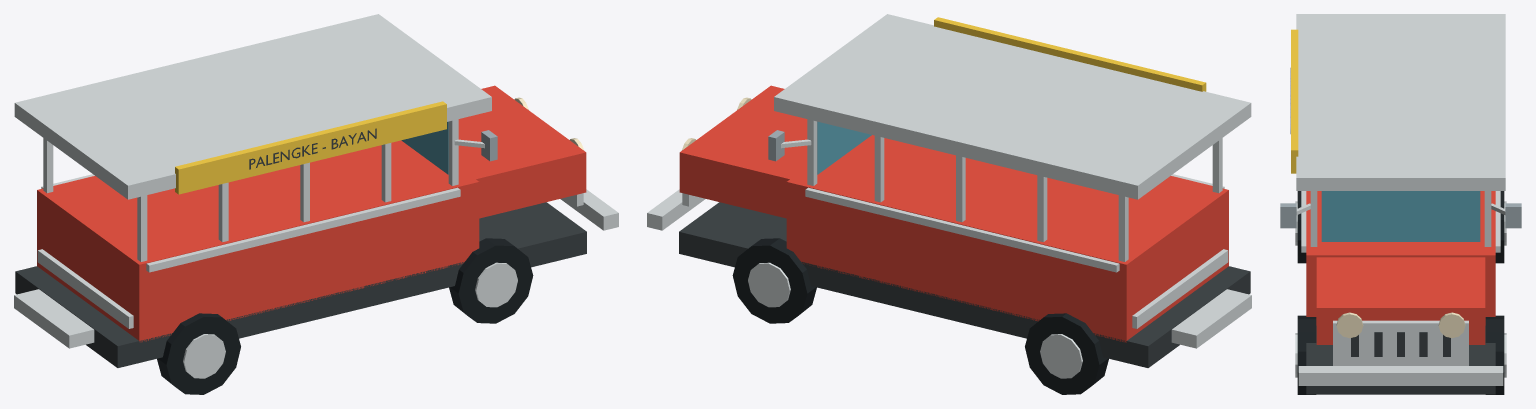
The model's file is TR_Jeepney_red.glb.
3 views of the same model, side by side, from view 1: azimuth 30°, elevation 25°; view 2: azimuth 150°, elevation 25°; view 3: azimuth 270°, elevation 25° (orthographic). The views are drawn at different scales.
Parts seen in each view (by area): view 1: TR_Jeepney_red; view 2: TR_Jeepney_red; view 3: TR_Jeepney_red.
Part boxes in pixels (<box>): TR_Jeepney_red: <box>14,14,618,394</box>; TR_Jeepney_red: <box>647,14,1251,394</box>; TR_Jeepney_red: <box>1280,14,1521,394</box>.
Bounding box in the file's own units: 5.45 × 2.35 × 2.36.
